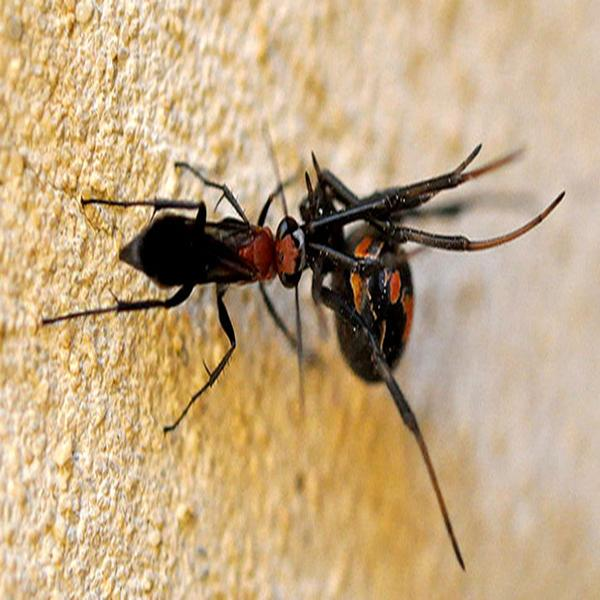Redback Spider: (306, 154, 559, 562)
